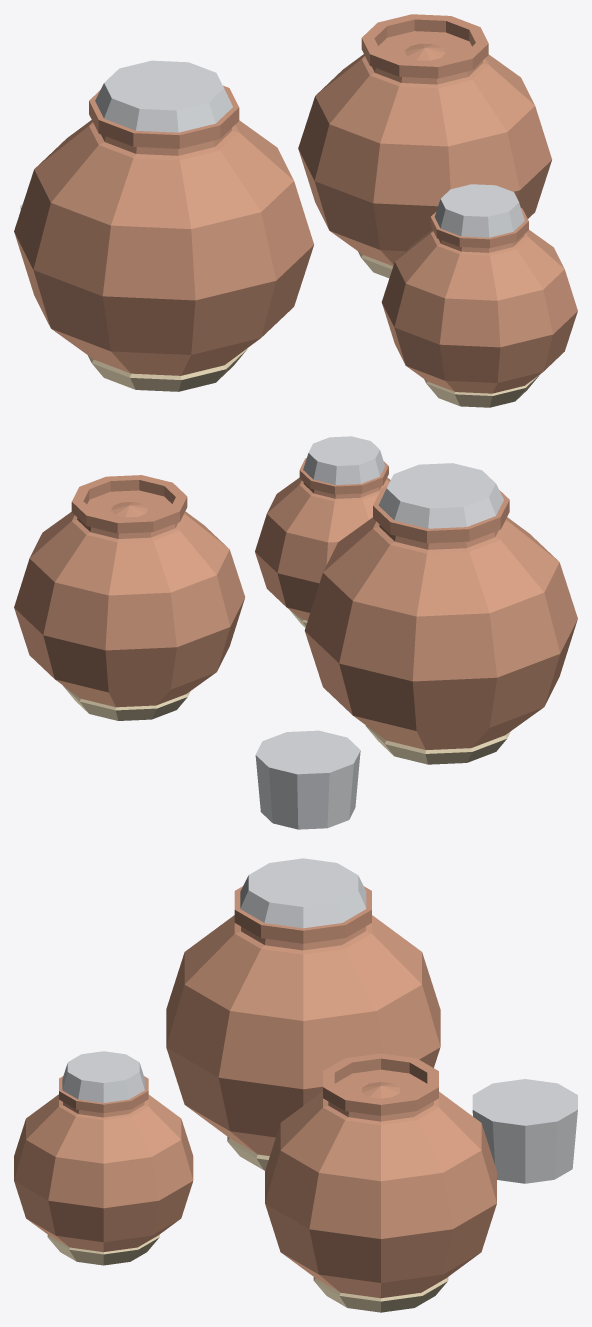
The model's file is indian-bazaar-street-and-temple-water-pot-set-f00d7b40__36567.glb.
The picture shows the model from 3 angles, top to bottom: view 1: azimuth 30°, elevation 25°; view 2: azimuth 150°, elevation 25°; view 3: azimuth 270°, elevation 25°; orthographic projection. The views are drawn at different scales.
Visible parts, largest first — view 1: water-pot-set-terracotta, water-pot-set-steel, water-pot-set-jute; view 2: water-pot-set-terracotta, water-pot-set-steel, water-pot-set-jute; view 3: water-pot-set-terracotta, water-pot-set-steel, water-pot-set-jute.
Part boxes in pixels (<box>): water-pot-set-terracotta: <box>14,14,577,393</box>; water-pot-set-steel: <box>20,60,524,237</box>; water-pot-set-jute: <box>88,251,540,407</box>; water-pot-set-terracotta: <box>14,458,577,749</box>; water-pot-set-steel: <box>255,436,503,829</box>; water-pot-set-jute: <box>63,609,510,764</box>; water-pot-set-terracotta: <box>14,886,496,1298</box>; water-pot-set-steel: <box>62,858,577,1183</box>; water-pot-set-jute: <box>47,1137,448,1312</box>.
Size of the model in its own units: 1.08 by 0.529 by 1.02.
